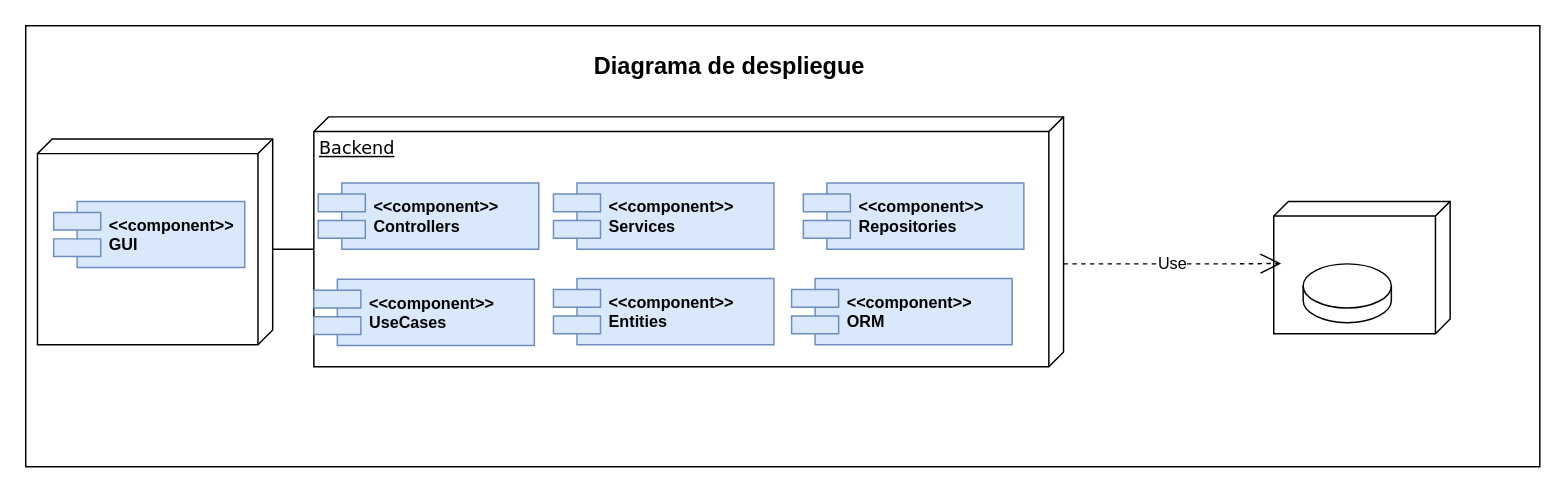
The diagram is 1566 pixels wide and 492 high, and some of its shapes have lost their labels. Here are the shapes that lost their labels. From the top down, the box of each, then its label:
(36, 137, 273, 345): Client
(1272, 200, 1450, 334): Database
